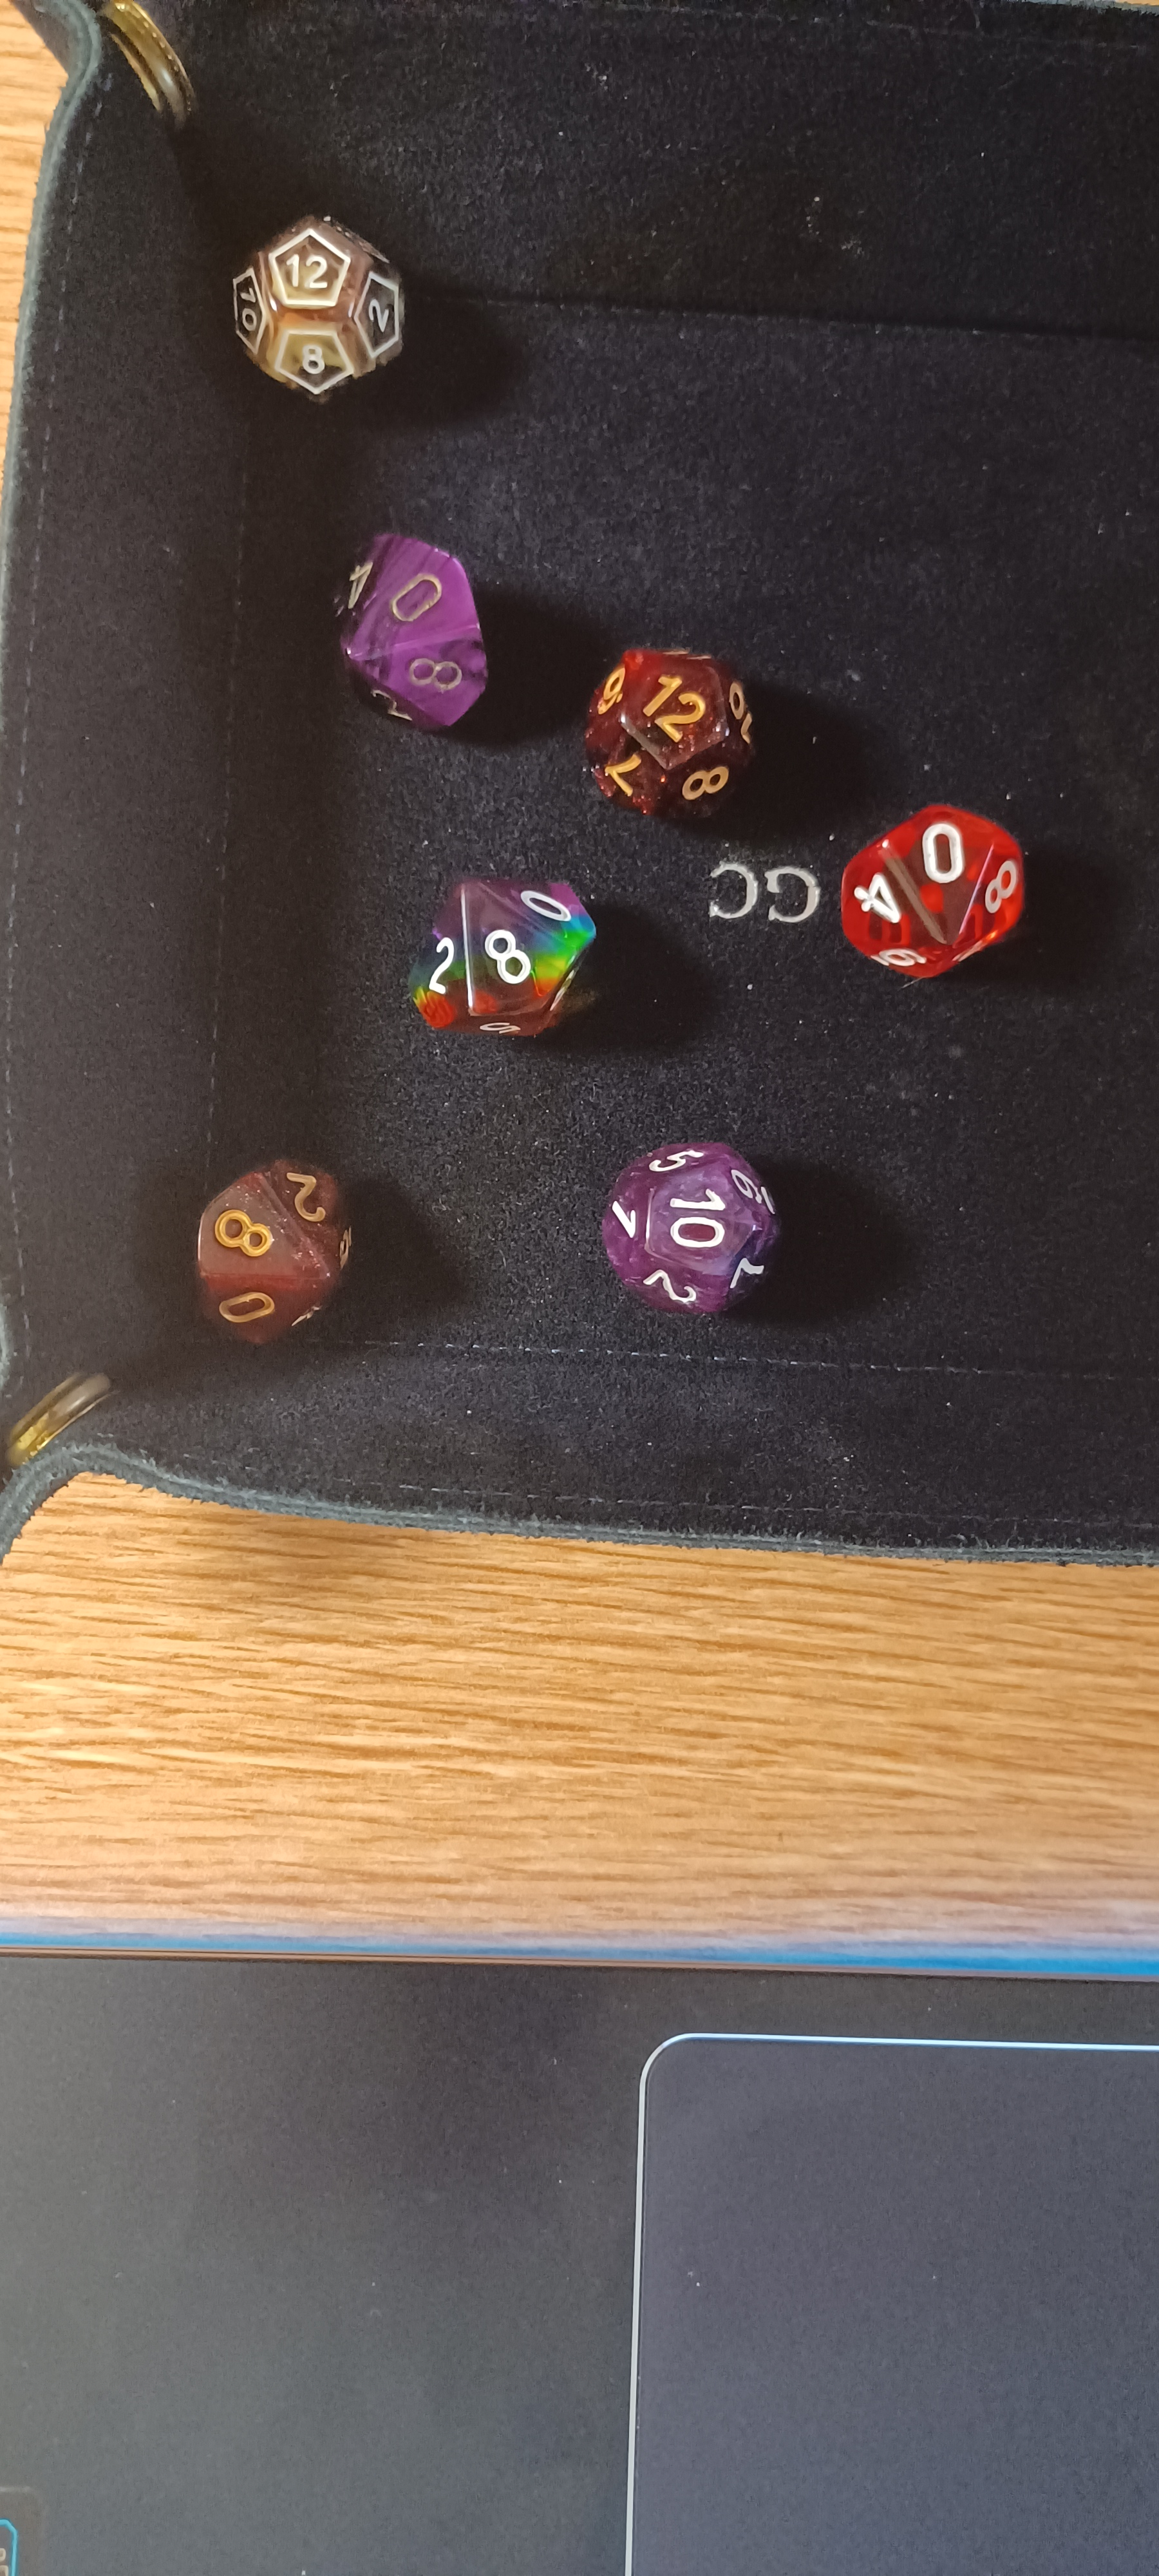eight: (133, 1125, 430, 1360), (384, 843, 614, 1101)
ten: (573, 1101, 813, 1352)
twelve: (190, 176, 438, 434), (566, 600, 796, 839)
zero: (295, 483, 565, 784), (799, 779, 1085, 1005)
